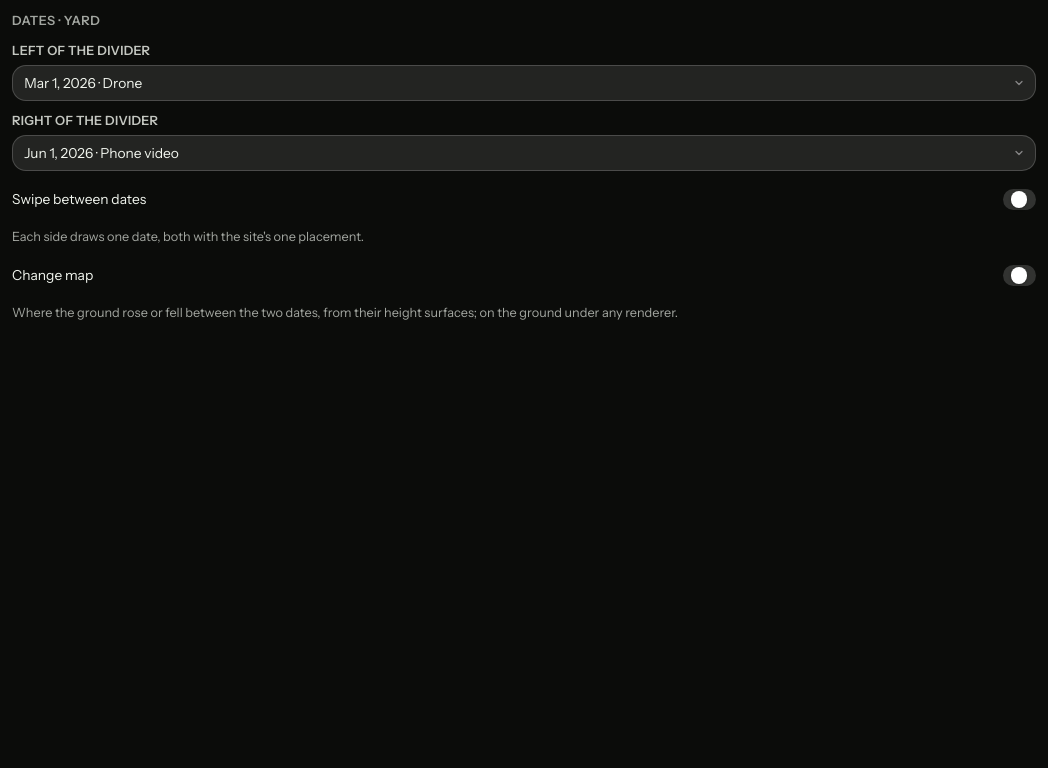
Test: the drape and its legend › asks for the pilot's write token on a 401, in the legend and in Compare, and loads once given
The width and height of the screenshot is (1048, 768).
Click the switch named "Change map" in the row of "Change map" at point(1019, 276), box top-left (1003, 265), bottom-right (1036, 286)
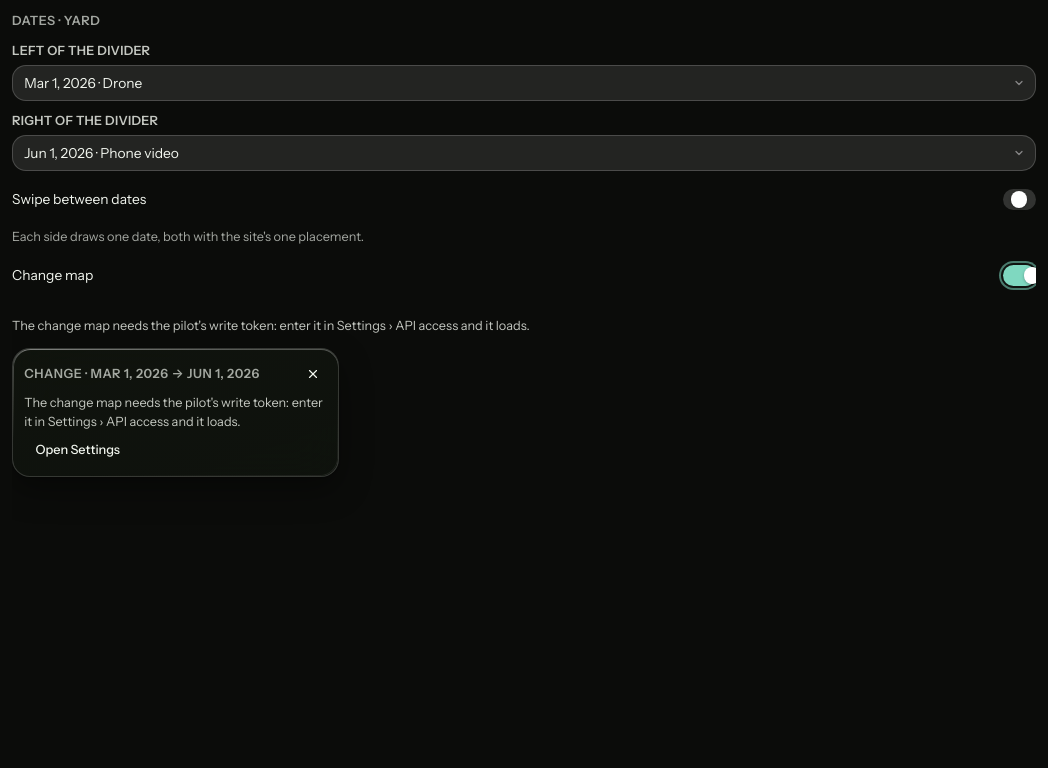
Expected: the message with test id "change-drape-error" shows "The change map needs the pilot's write token: enter it in Settings › API access and it loads.", top-left (24, 395), bottom-right (323, 429)
Expected: the text with test id "compare-change-refused" shows "The change map needs the pilot's write token: enter it in Settings › API access and it loads.", top-left (12, 318), bottom-right (530, 333)
Click the button "Open Settings" at point(78, 451), box top-left (24, 437), bottom-right (131, 465)
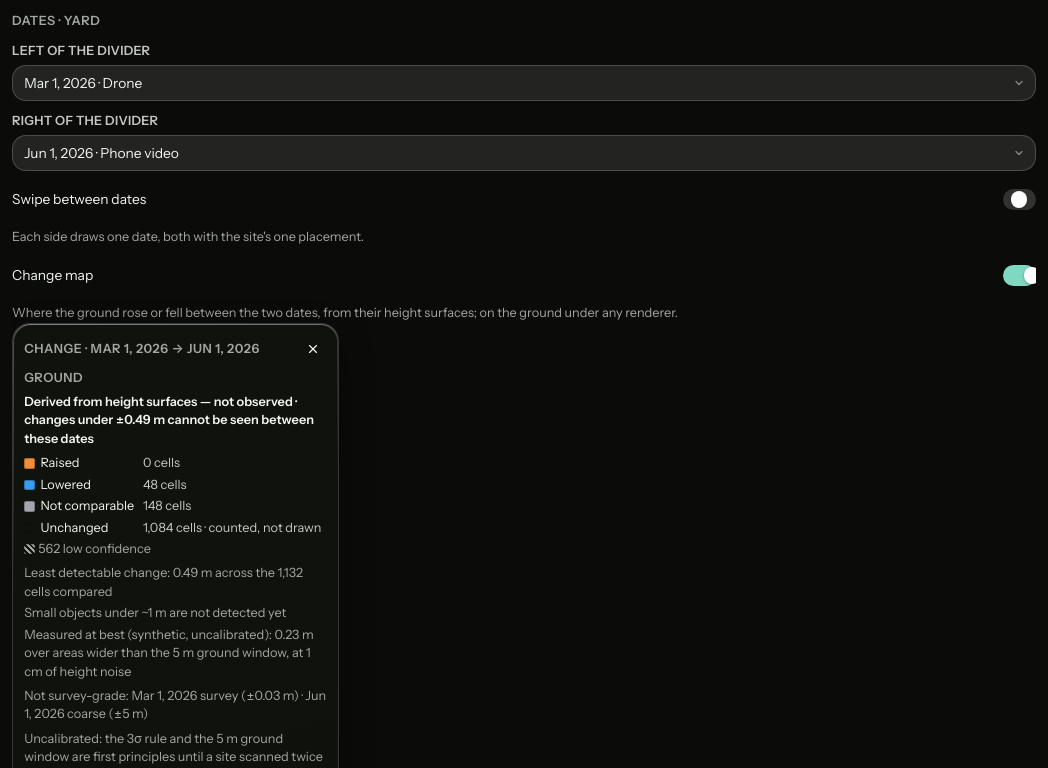
Expected: the message with test id "change-drape-error" is gone
